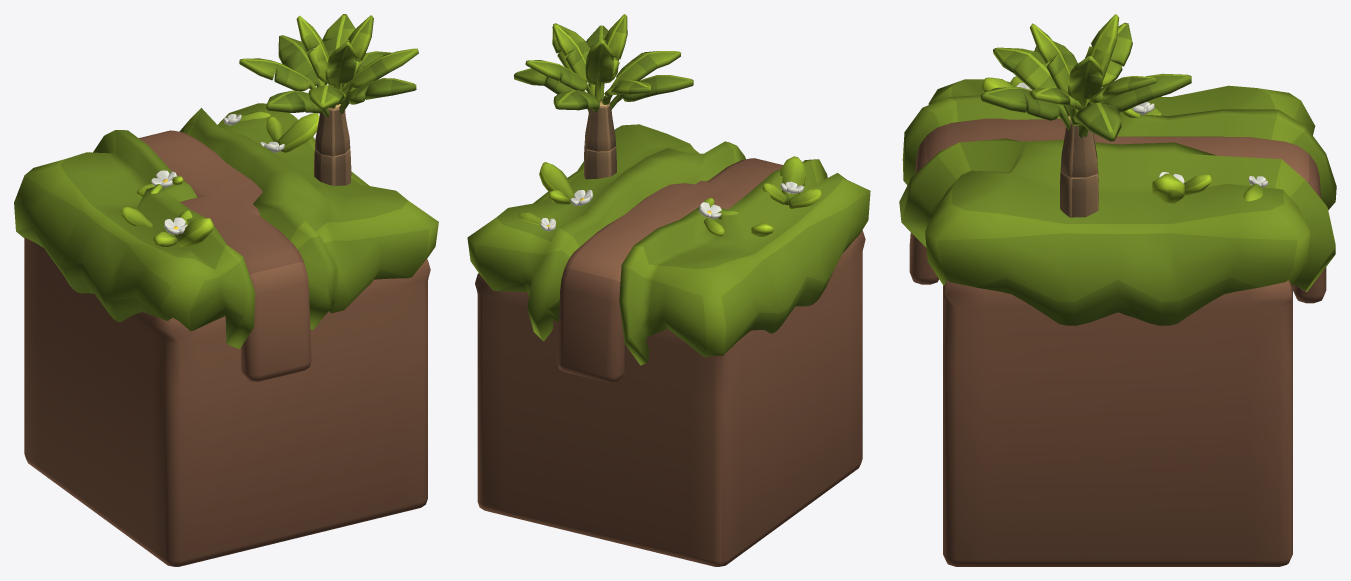
Rendered from Spring9.fbx.
The picture shows the model from 3 angles, left to right: view 1: azimuth 30°, elevation 25°; view 2: azimuth 150°, elevation 25°; view 3: azimuth 270°, elevation 25°; orthographic projection. The views are drawn at different scales.
Visible parts, largest first — view 1: Spring9, Spring_Cube3.002, Road9, Tree_Spring.008, Spring_Cube_09.002; view 2: Spring9, Spring_Cube3.002, Road9, Tree_Spring.008, Spring_Cube_09.002; view 3: Spring9, Spring_Cube3.002, Tree_Spring.008, Road9, Spring_Cube_09.002.
Part boxes in pixels (bbox=[...]): Spring9: bbox=[24, 237, 430, 566]; Spring_Cube3.002: bbox=[14, 103, 438, 348]; Road9: bbox=[139, 130, 311, 381]; Tree_Spring.008: bbox=[239, 14, 418, 185]; Spring_Cube_09.002: bbox=[121, 111, 319, 247]; Spring9: bbox=[475, 230, 865, 566]; Spring_Cube3.002: bbox=[467, 124, 870, 365]; Road9: bbox=[557, 158, 782, 382]; Tree_Spring.008: bbox=[514, 14, 693, 179]; Spring_Cube_09.002: bbox=[519, 156, 821, 236]; Spring9: bbox=[943, 280, 1292, 566]; Spring_Cube3.002: bbox=[899, 79, 1336, 325]; Tree_Spring.008: bbox=[980, 14, 1191, 217]; Road9: bbox=[909, 118, 1326, 303]; Spring_Cube_09.002: bbox=[981, 76, 1267, 203].
Bounding box in the file's own units: 119 × 165 × 125.
